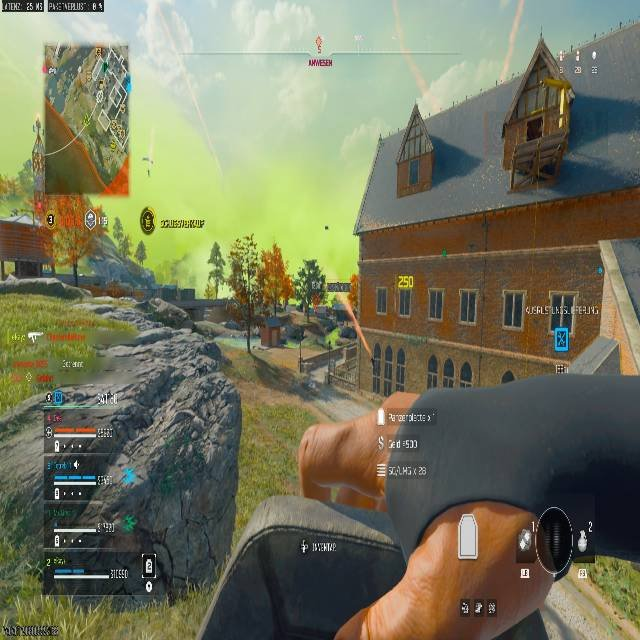player: (314, 34, 323, 53)
